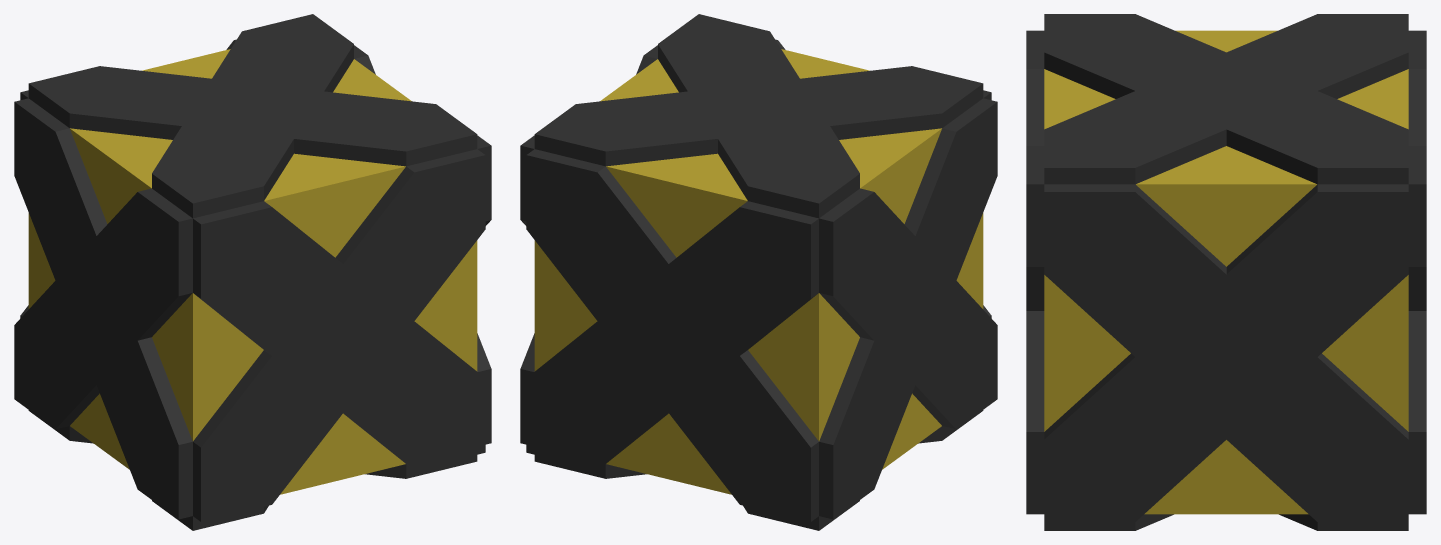
The model's file is boxtest02.fbx.
3 views of the same model, side by side, from view 1: azimuth 30°, elevation 25°; view 2: azimuth 150°, elevation 25°; view 3: azimuth 270°, elevation 25° (orthographic). The views are drawn at different scales.
Parts seen in each view (by area): view 1: Cube; view 2: Cube; view 3: Cube.
Boxes of the visible parts, x1,y1,x2,y2 form: Cube: [14, 14, 491, 530]; Cube: [520, 14, 997, 530]; Cube: [1026, 14, 1426, 530].
Bounding box in the file's own units: 26.29 × 26.29 × 26.29.
